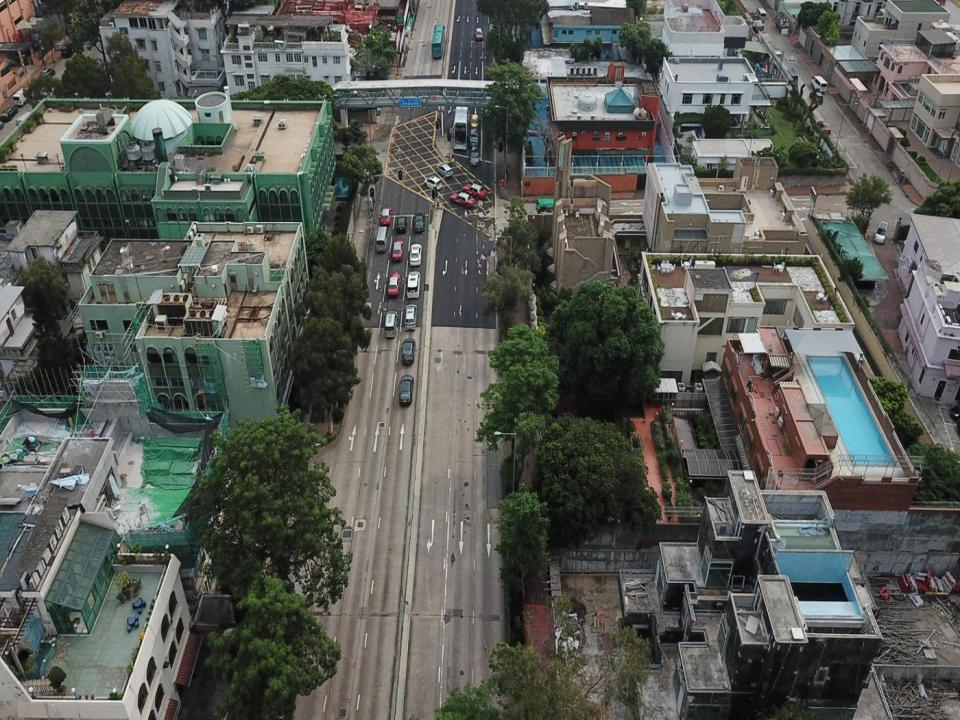bus: (454, 103, 468, 149), (431, 25, 445, 58)
car: (399, 375, 414, 404), (402, 338, 415, 366), (404, 304, 417, 331), (450, 193, 475, 207), (462, 184, 486, 198), (388, 273, 401, 296), (0, 106, 18, 122), (409, 244, 422, 265), (392, 240, 404, 262), (380, 206, 392, 226), (436, 164, 453, 177), (414, 213, 425, 231), (397, 216, 407, 234), (809, 90, 823, 102), (470, 151, 479, 165), (470, 114, 478, 129), (475, 28, 482, 40)
truck: (536, 198, 562, 211)
van: (12, 88, 33, 106), (384, 311, 398, 337), (407, 271, 420, 298), (375, 227, 389, 252), (873, 221, 887, 245), (61, 43, 80, 58), (811, 76, 827, 93), (423, 176, 442, 190), (40, 68, 55, 78), (756, 7, 766, 22), (470, 129, 478, 147)
